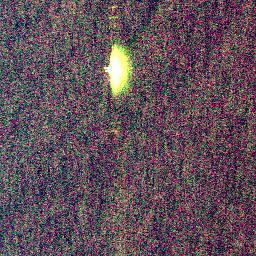Ship: (104, 45, 134, 96)
